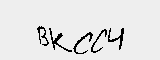В: (34, 26, 49, 51)
К: (49, 30, 71, 56)
С: (72, 30, 93, 55), (88, 28, 107, 54)
Ч: (106, 27, 127, 50)
